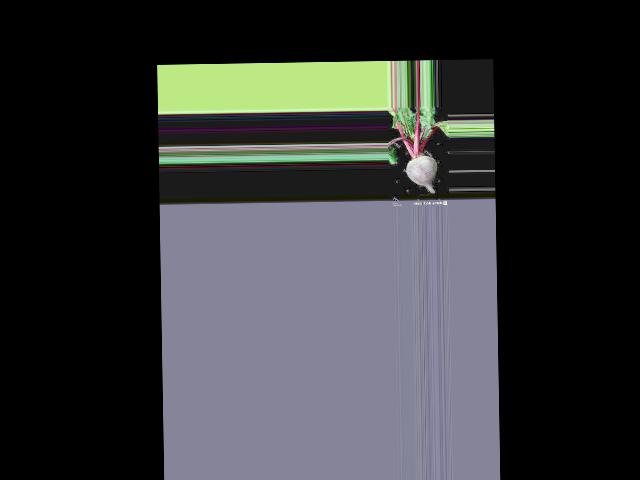beet: (386, 106, 449, 194)
